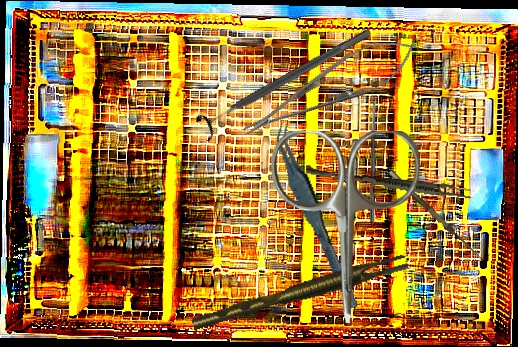Fixation Ring: (193, 19, 378, 143)
Hook Surgical: (388, 164, 490, 264)
Iris Scissors: (270, 131, 422, 323)
Needle Holder: (231, 22, 428, 153)
Surgical Spoon: (369, 94, 378, 223)
Tissue Forceps: (271, 116, 360, 316), (188, 253, 411, 330), (304, 164, 472, 201)
